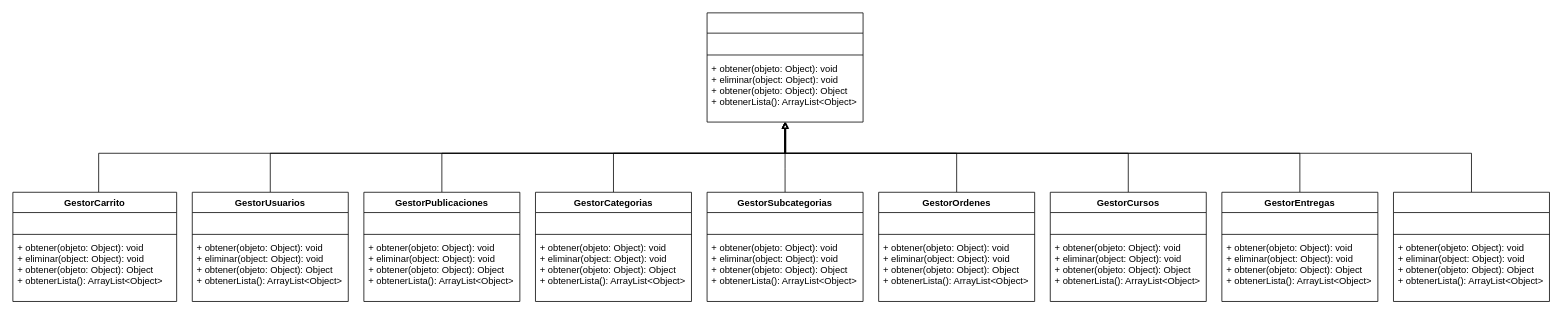
This 1562x314 diagram has some shape labels left out. Here are the shapes that lost their labels. From the top down, the box of each, then its label:
(706, 12, 863, 122): GestorBD
(1393, 191, 1549, 301): GestorCitas
